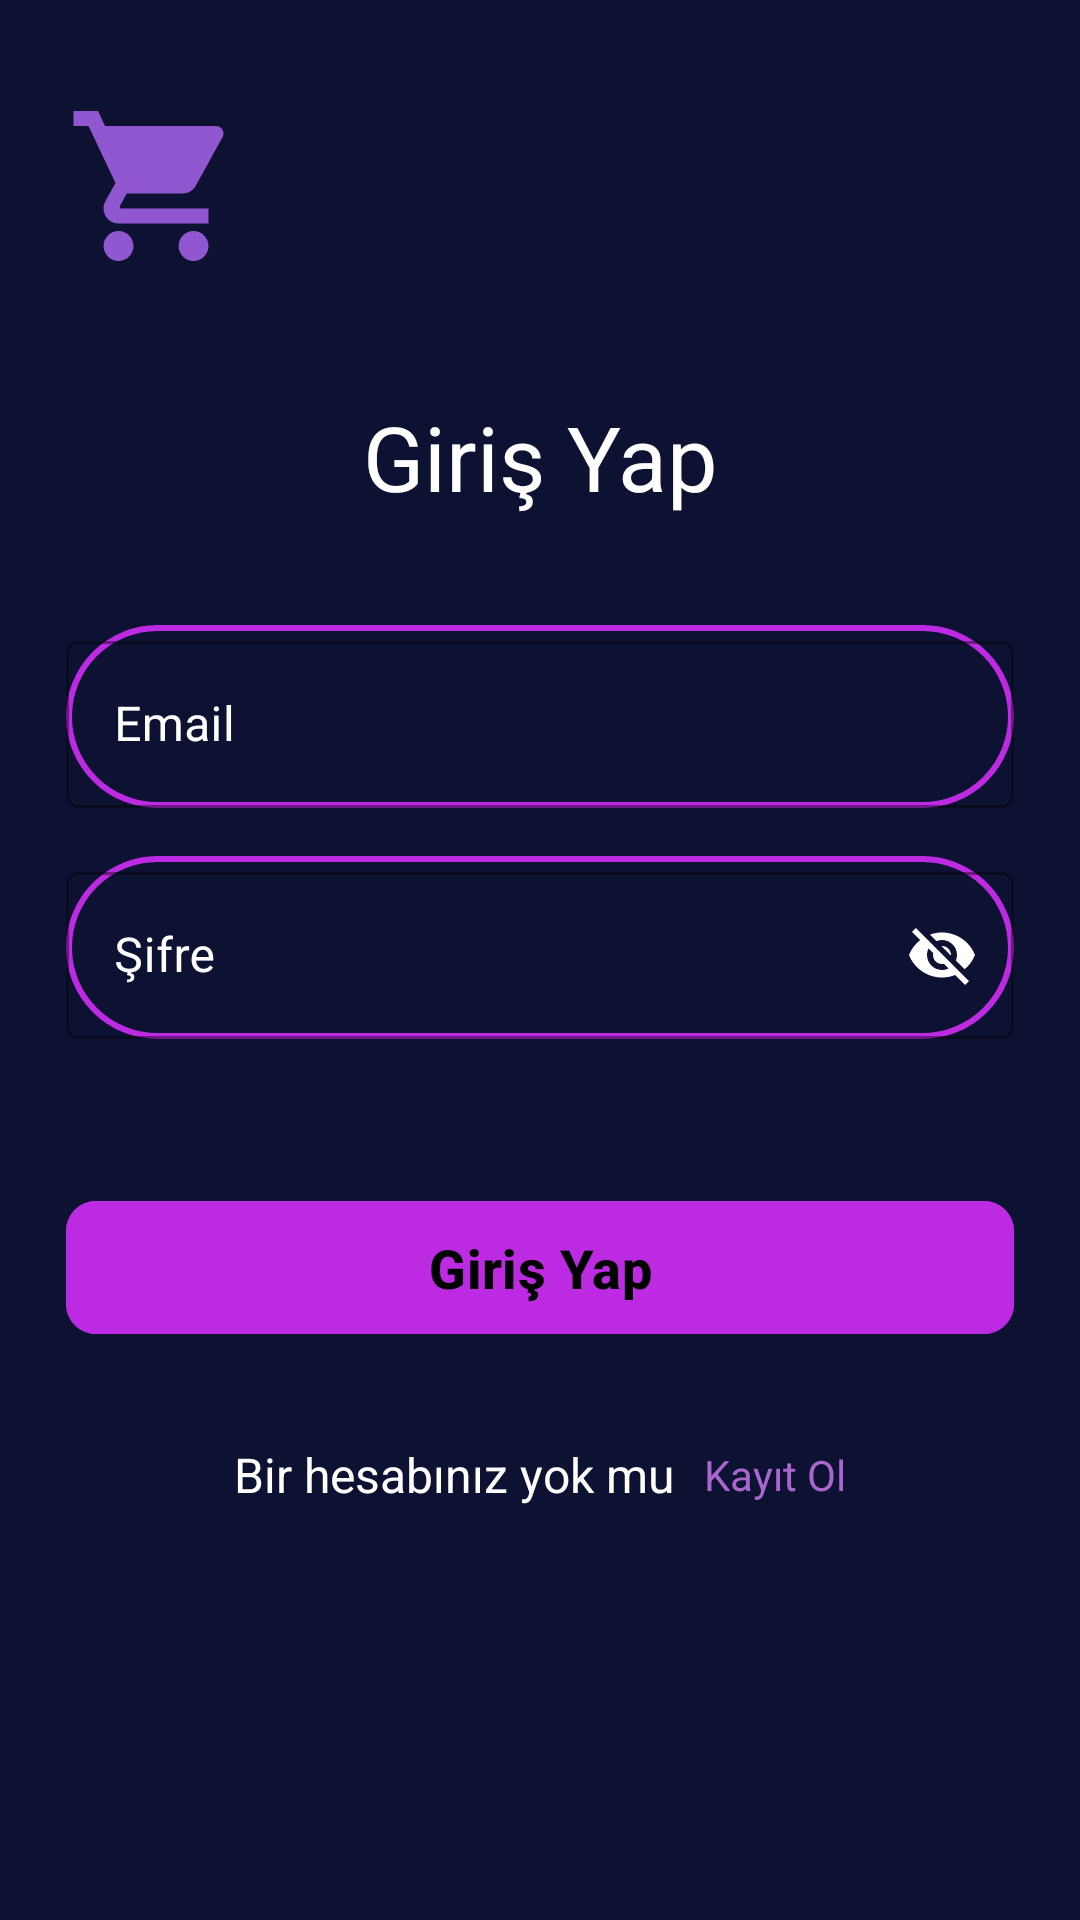

Where to tap for icons on this 1080 x 1920 app screen, as (x=x, y=y):
shopping cart: (x=148, y=186)
